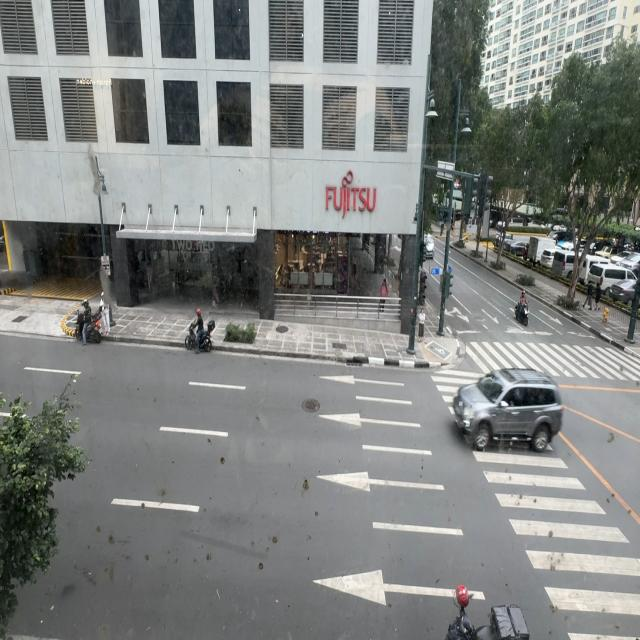pedestrain: (582, 281, 594, 311), (379, 279, 388, 313), (594, 280, 602, 311)
waiting: (418, 307, 426, 342)
